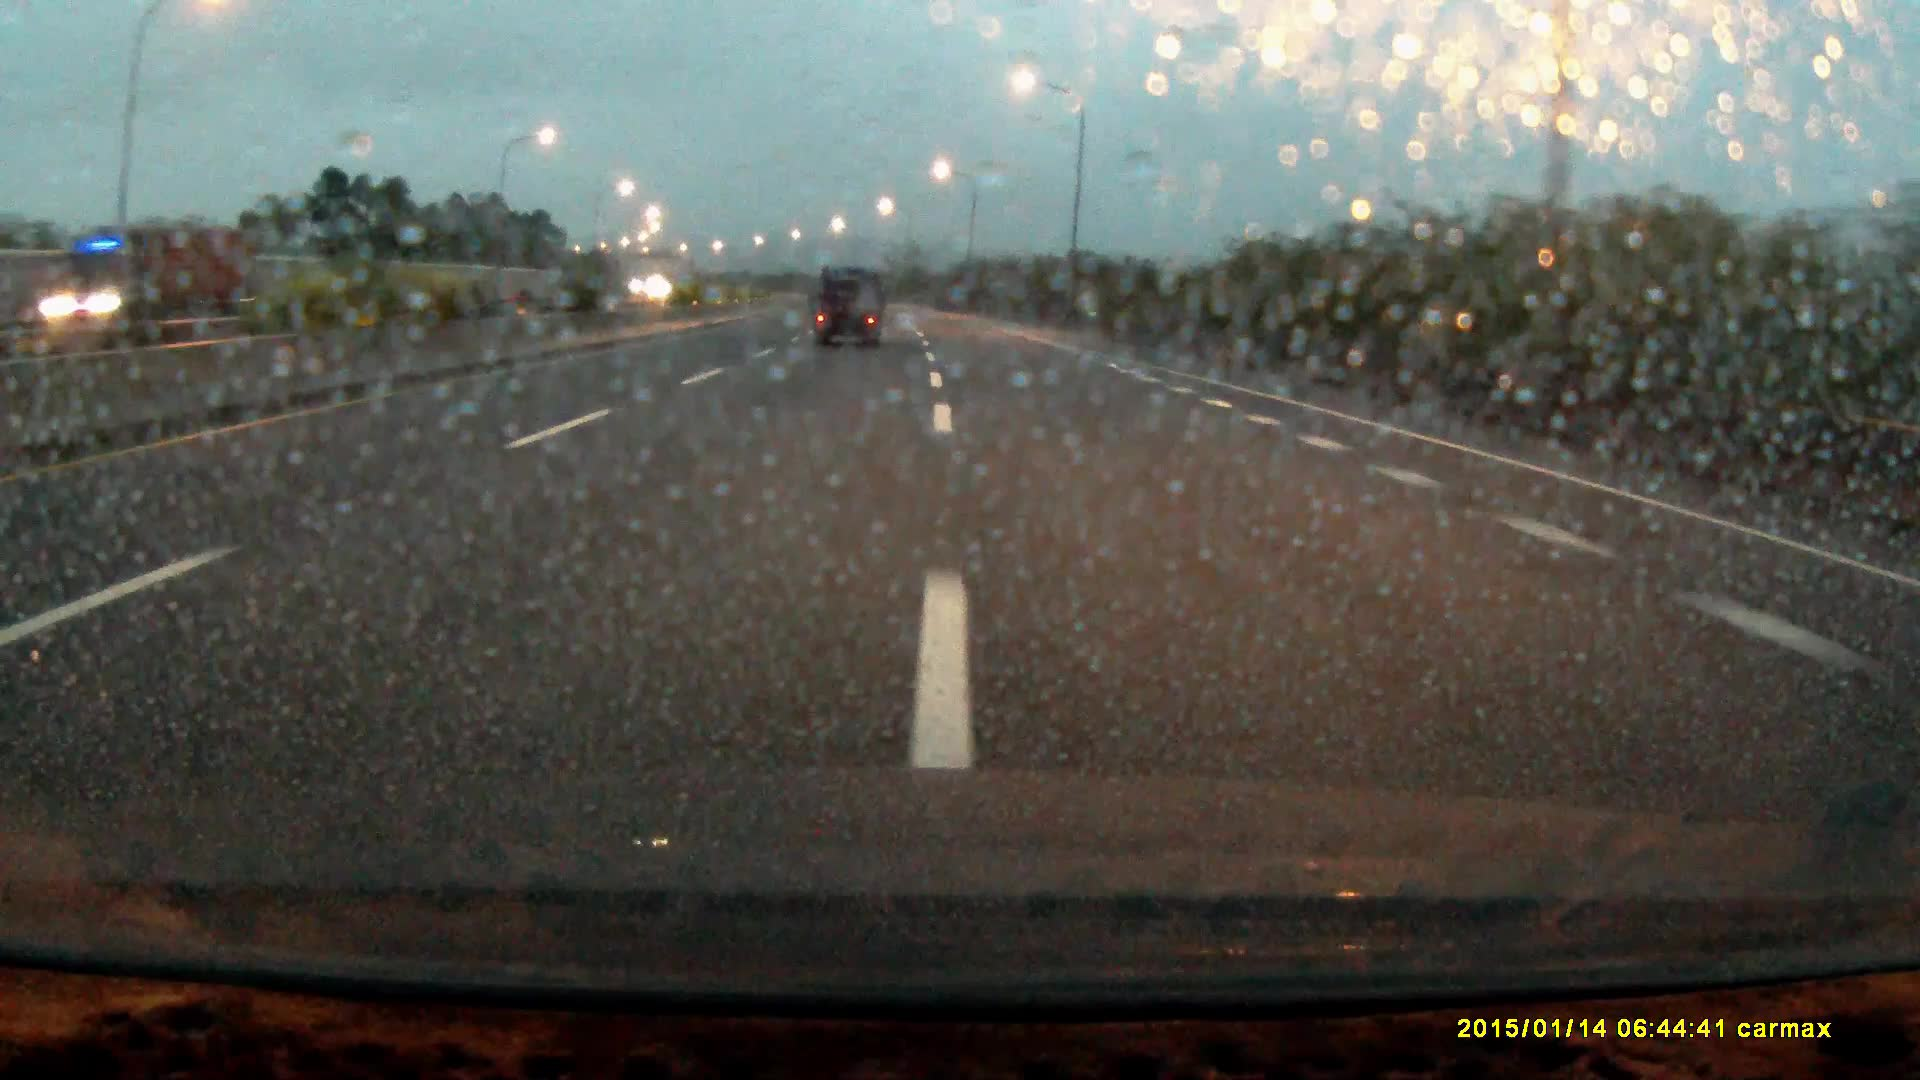vehicle: (32, 228, 257, 324), (808, 266, 886, 351)
